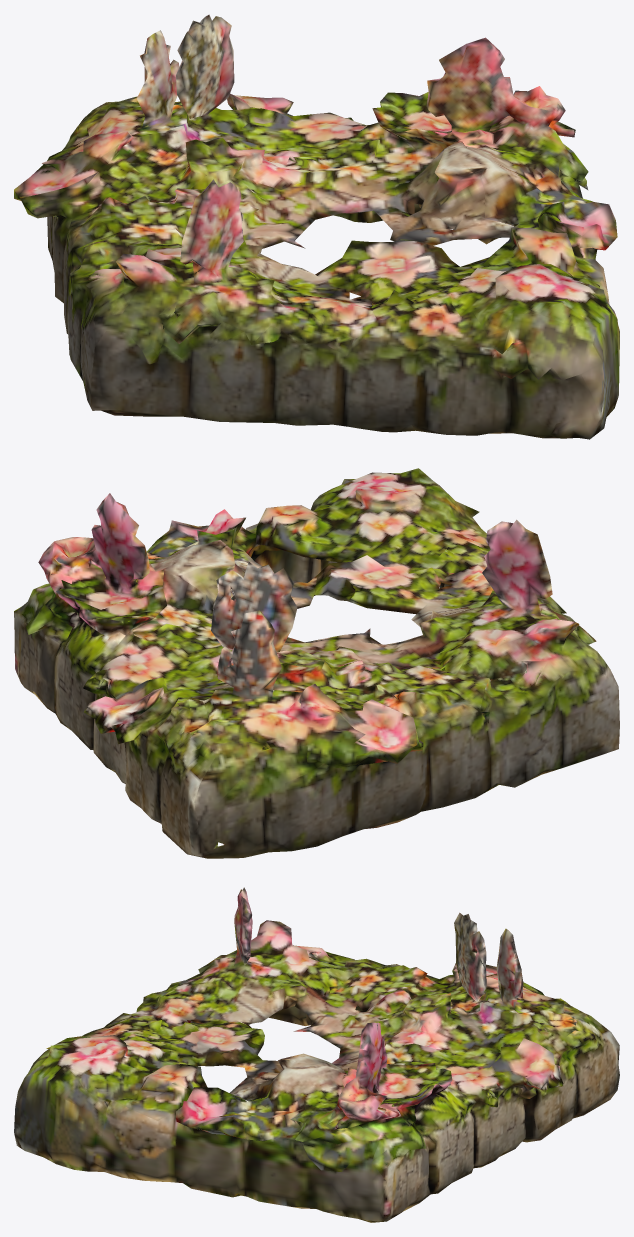
Rendered from SpringDecor_BossRoom_RaisedFlowerBed.fbx.
3 renders of one model, top to bottom at view 1: azimuth 30°, elevation 25°; view 2: azimuth 150°, elevation 25°; view 3: azimuth 270°, elevation 25°, orthographic. The views are drawn at different scales.
Parts seen in each view (by area): view 1: SpringDecor_BossRoom_RaisedFlowerBed_Mesh; view 2: SpringDecor_BossRoom_RaisedFlowerBed_Mesh; view 3: SpringDecor_BossRoom_RaisedFlowerBed_Mesh.
Boxes of the visible parts, x1,y1,x2,y2 form: SpringDecor_BossRoom_RaisedFlowerBed_Mesh: (14, 14, 619, 439); SpringDecor_BossRoom_RaisedFlowerBed_Mesh: (14, 468, 619, 858); SpringDecor_BossRoom_RaisedFlowerBed_Mesh: (14, 887, 619, 1222).
Size of the model in its own units: 5.07 by 2.11 by 6.
1 material, 1 textured.
